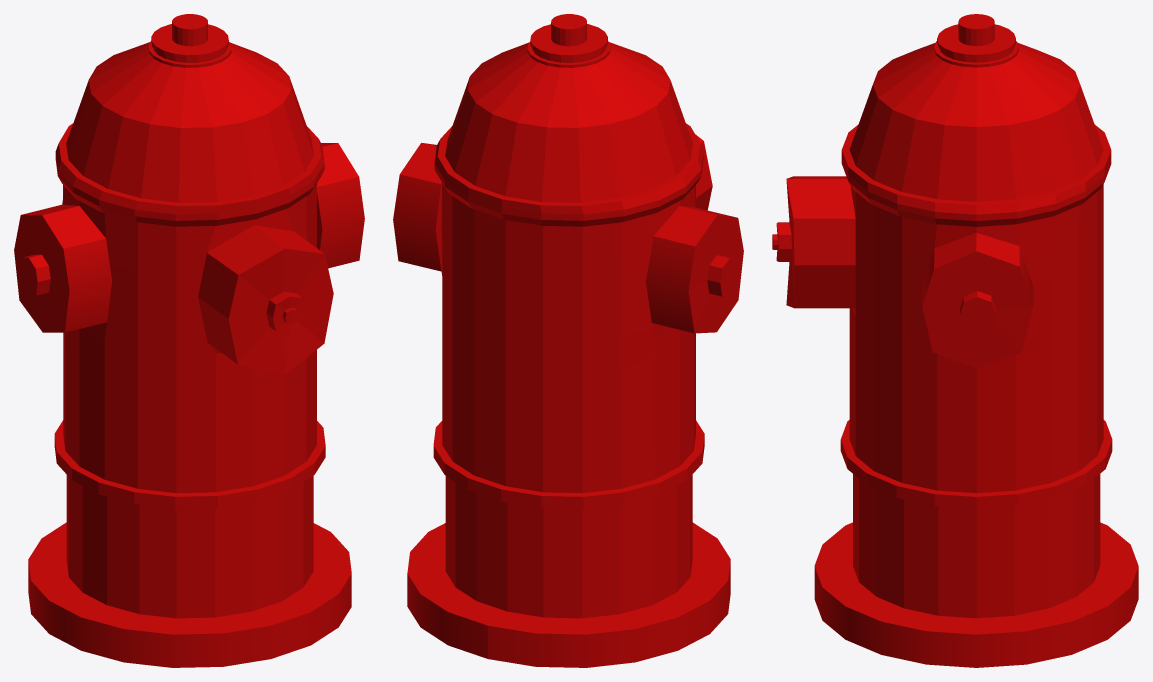
File: Water_Hydrant.fbx
3 views of the same model, side by side, from view 1: azimuth 30°, elevation 25°; view 2: azimuth 150°, elevation 25°; view 3: azimuth 270°, elevation 25° (orthographic).
Parts seen in each view (by area): view 1: pCylinder2; view 2: pCylinder2; view 3: pCylinder2.
Boxes of the visible parts, x1=… form: pCylinder2: x1=14, y1=14, x2=364, y2=667; pCylinder2: x1=393, y1=14, x2=743, y2=667; pCylinder2: x1=772, y1=14, x2=1138, y2=667.
Bounding box in the file's own units: 0.9264 × 1.59 × 0.9139.
